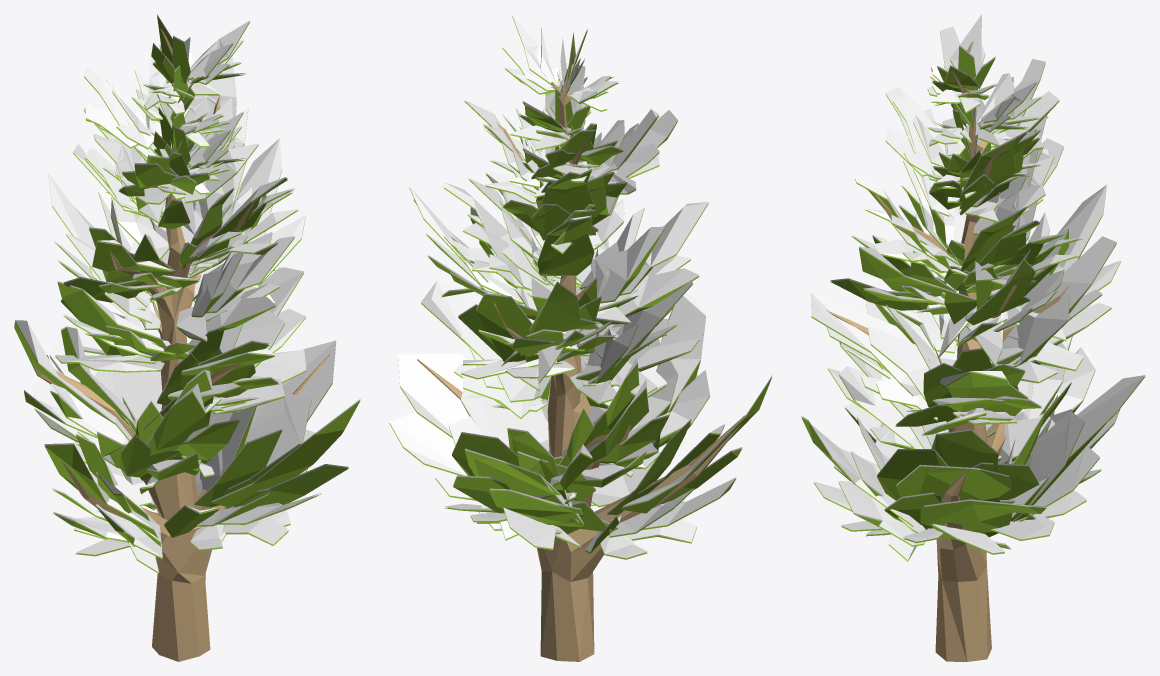
File: SnowtulipA.fbx
3 renders of one model, left to right at view 1: azimuth 30°, elevation 25°; view 2: azimuth 150°, elevation 25°; view 3: azimuth 270°, elevation 25°, orthographic.
Visible parts, largest first — view 1: leaves.002, leaves.001, trunk.001; view 2: leaves.002, leaves.001, trunk.001; view 3: leaves.002, leaves.001, trunk.001.
Boxes of the visible parts, <box> form: leaves.002: <box>14,14,360,572</box>; leaves.001: <box>14,16,360,573</box>; trunk.001: <box>32,28,329,661</box>; leaves.002: <box>389,14,772,558</box>; leaves.001: <box>389,16,771,559</box>; trunk.001: <box>413,42,745,661</box>; leaves.002: <box>801,14,1145,559</box>; leaves.001: <box>801,26,1144,561</box>; trunk.001: <box>826,41,1069,661</box>.
Bounding box in the file's own units: 432 × 819 × 405.
